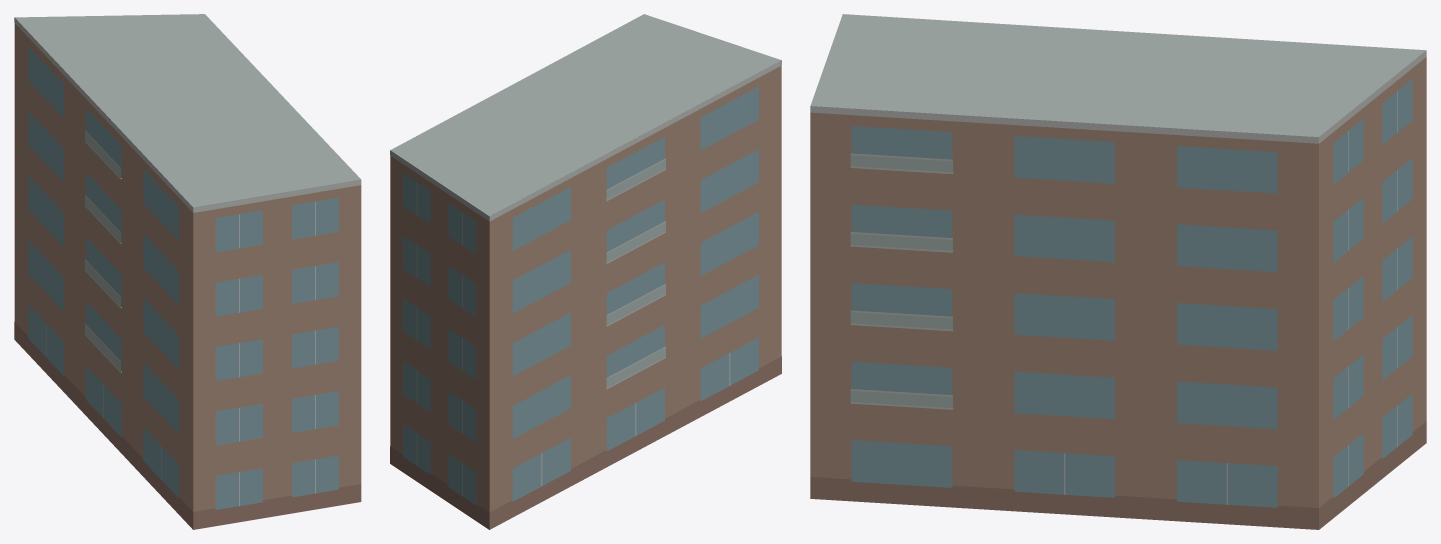
Rendered from survey-upis-32670832.glb.
3 renders of one model, left to right at view 1: azimuth 30°, elevation 25°; view 2: azimuth 150°, elevation 25°; view 3: azimuth 270°, elevation 25°, orthographic. The views are drawn at different scales.
Visible parts, largest first — view 1: survey-upis-32670832.tmp; view 2: survey-upis-32670832.tmp; view 3: survey-upis-32670832.tmp.
Part boxes in pixels (x1,y1,x2,y2): survey-upis-32670832.tmp: [14, 14, 361, 529]; survey-upis-32670832.tmp: [390, 14, 781, 529]; survey-upis-32670832.tmp: [810, 14, 1426, 529].
Size of the model in its own units: 9.83 by 14.6 by 20.78.
